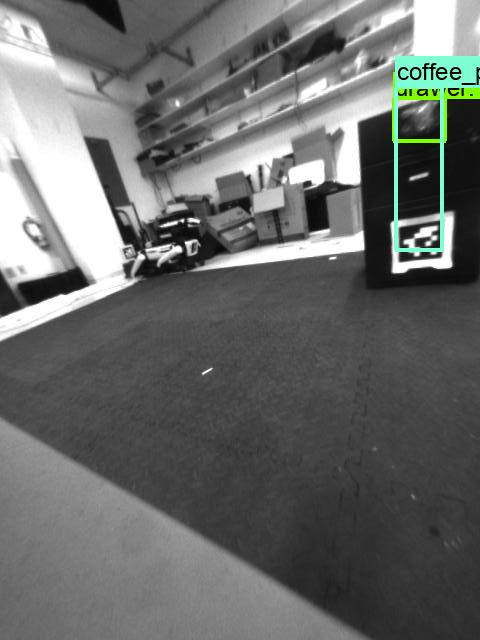drawer: (394, 104, 448, 138)
